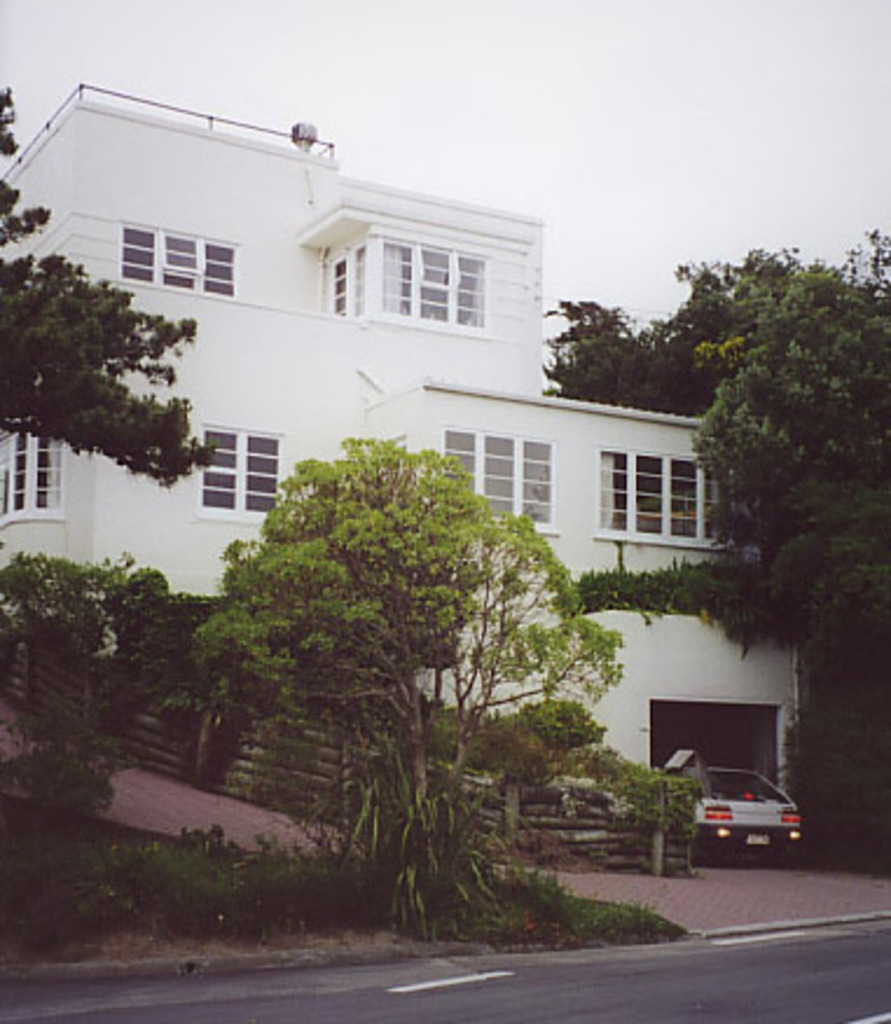cars: (685, 759, 797, 864)
